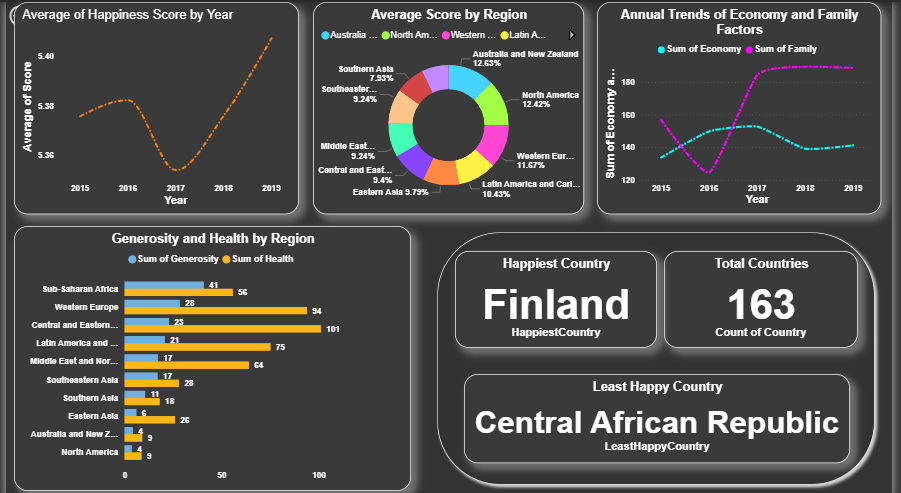

What the dashboard file says about the page in this screenshot:
{"tool":"powerbi","page":{"name":"Page 2","canvas":[1280,720],"ordinal":1},"visuals":[{"type":"shape","box":[614.5,323.9,650.6,383.1],"z":0},{"type":"card","title":"Total Countries","fields":{"Values":["Count(Happiness_Data.Country)"]},"box":[951.3,360,280.5,140.2],"z":1000},{"type":"actionButton","box":[0,0,100,40],"z":2000},{"type":"card","title":"Least Happy Country","fields":{"Values":["Happiness_Data.LeastHappyCountry"]},"box":[662.2,537.8,558.1,128.7],"z":3000},{"type":"card","title":"Happiest Country","fields":{"Values":["Happiness_Data.HappiestCountry"]},"box":[649.2,360,292,140.2],"z":4000},{"type":"lineChart","title":"Average of Happiness Score by Year","fields":{"Category":["Happiness_Data.Year"],"Y":["Avg(Happiness_Data.Score)"]},"box":[11.6,0,412,306.5],"z":5000},{"type":"donutChart","title":"Average Score by Region","fields":{"Category":["Happiness_Data.Region"],"Y":["Happiness_Data.Avg_Score"]},"box":[443.9,0,391.8,306.5],"z":6000},{"type":"lineChart","title":"Annual Trends of Economy and Family Factors","fields":{"Category":["Happiness_Data.Year"],"Y":["Sum(Happiness_Data.Economy)","Sum(Happiness_Data.Family)"]},"box":[854.5,0,410.6,306.5],"z":7000},{"type":"clusteredBarChart","title":"Generosity and Health by Region","fields":{"Category":["Happiness_Data.Region"],"Y":["Sum(Happiness_Data.Generosity)","Sum(Happiness_Data.Health)"]},"box":[11.6,323.9,574,383.1],"z":8000}]}

Visuals, with their boxes in screenshot pixels (x1, y1, x2, y2), scaled from the page's 1280x720 canvas onto the 901x493 screenshot:
shape: {"left": 433, "top": 222, "right": 891, "bottom": 484}
"Total Countries" card: {"left": 670, "top": 246, "right": 867, "bottom": 342}
actionButton: {"left": 0, "top": 0, "right": 70, "bottom": 27}
"Least Happy Country" card: {"left": 466, "top": 368, "right": 859, "bottom": 456}
"Happiest Country" card: {"left": 457, "top": 246, "right": 663, "bottom": 342}
"Average of Happiness Score by Year" lineChart: {"left": 8, "top": 0, "right": 298, "bottom": 210}
"Average Score by Region" donutChart: {"left": 312, "top": 0, "right": 588, "bottom": 210}
"Annual Trends of Economy and Family Factors" lineChart: {"left": 601, "top": 0, "right": 891, "bottom": 210}
"Generosity and Health by Region" clusteredBarChart: {"left": 8, "top": 222, "right": 412, "bottom": 484}
